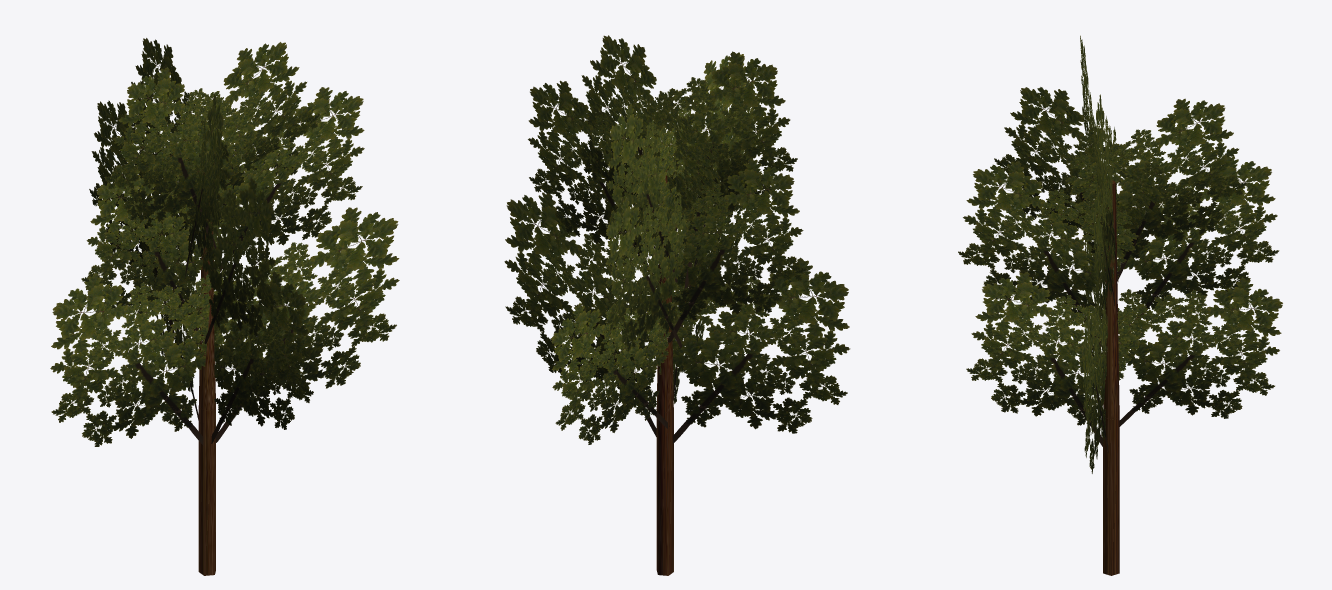
The model's file is arbol v2.FBX.
The picture shows the model from 3 angles, left to right: view 1: azimuth 30°, elevation 25°; view 2: azimuth 150°, elevation 25°; view 3: azimuth 270°, elevation 25°; orthographic projection. The views are drawn at different scales.
Parts seen in each view (by area): view 1: Plane313, Plane310, Plane315, Plane311, Plane316, Plane314, Plane312, Plane317, Cylinder090, Plane320, Plane318, Plane321 (+1 smaller); view 2: Plane313, Plane314, Plane310, Plane319, Plane315, Plane312, Plane311, Plane320, Plane321, Cylinder090, Plane318, Plane317 (+1 smaller); view 3: Plane319, Plane316, Plane317, Plane321, Plane320, Plane318, Cylinder090, Plane310, Plane311, Plane312, Plane315.
Part boxes in pixels (x1,y1,x2,y2): Plane313: (50,272,211,446); Plane310: (199,207,399,442); Plane315: (104,67,260,248); Plane311: (218,87,364,271); Plane316: (191,271,313,443); Plane314: (81,165,226,330); Plane312: (148,42,320,231); Plane317: (199,178,276,343); Cylinder090: (198,172,215,575); Plane320: (89,100,191,332); Plane318: (185,94,223,278); Plane321: (126,38,230,240); Plane313: (672,257,850,443); Plane314: (639,158,807,342); Plane310: (504,192,678,436); Plane319: (551,287,674,444); Plane315: (626,51,797,231); Plane312: (569,35,720,267); Plane311: (528,80,675,287); Plane320: (605,194,687,350); Plane321: (606,103,683,282); Cylinder090: (656,169,673,575); Plane318: (631,54,767,288); Plane317: (656,109,756,326); Plane319: (1118,278,1282,426); Plane316: (966,272,1141,446); Plane317: (958,161,1138,346); Plane321: (1065,98,1247,281); Plane320: (1101,156,1279,331); Plane318: (994,87,1166,263); Cylinder090: (1103,180,1119,575); Plane310: (1082,289,1108,473); Plane311: (1093,165,1114,322); Plane312: (1096,94,1118,281); Plane315: (1080,35,1102,264).
Bounding box in the file's own units: 165 × 142 × 204.
Materials: 2 (2 with a texture image).
